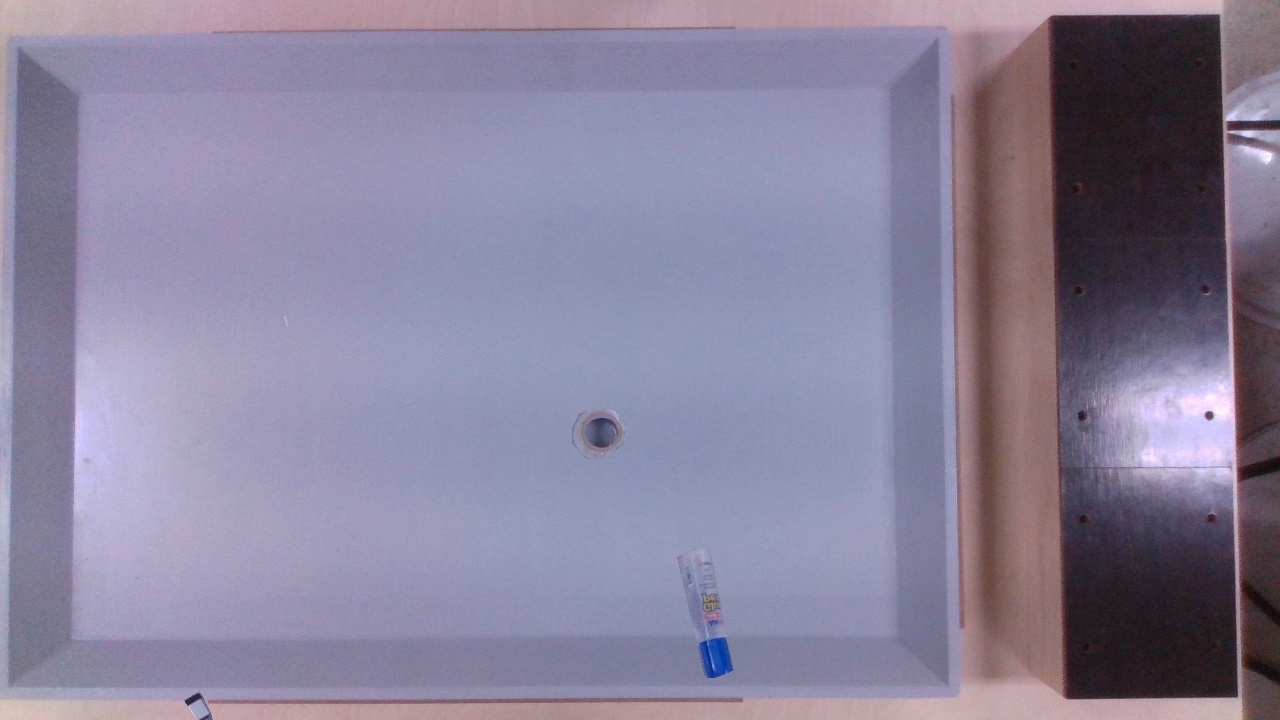Glue_pen: (677, 549, 733, 678)
Tape_white: (572, 408, 624, 460)
Usb_c: (184, 691, 212, 719)
